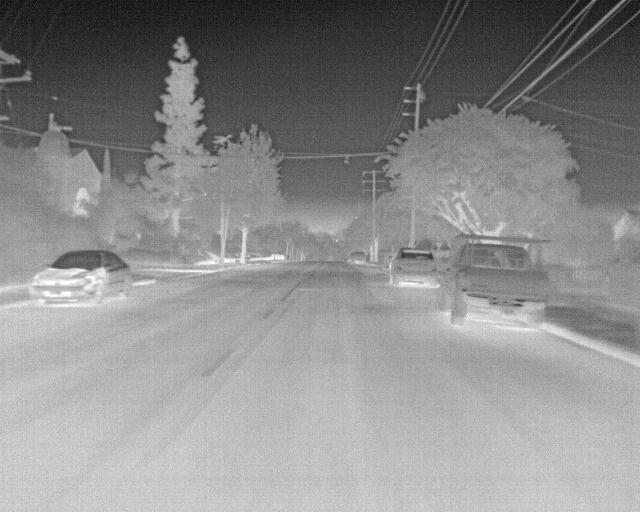car: (442, 232, 552, 332), (25, 248, 133, 310), (386, 249, 444, 291), (347, 249, 373, 267)
